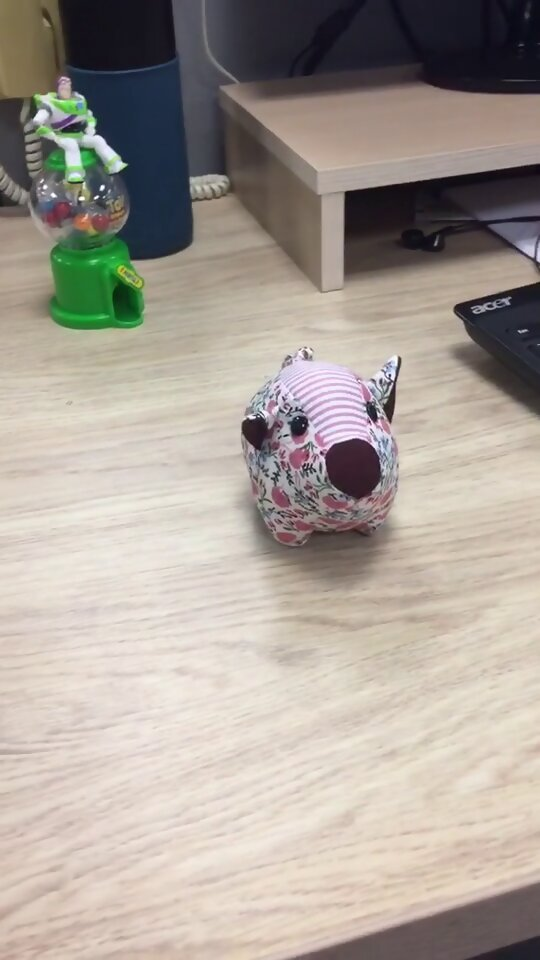pig: (236, 340, 405, 553)
